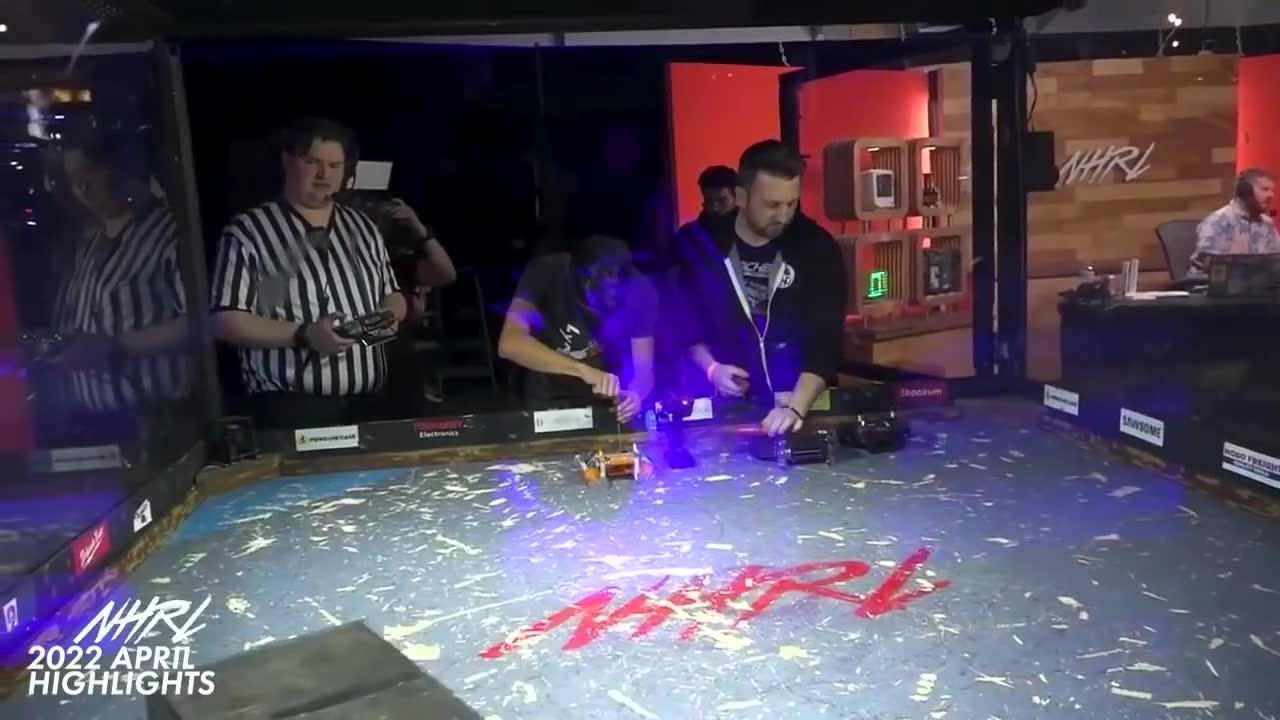combatbot: (577, 442, 652, 487), (749, 430, 830, 466)
